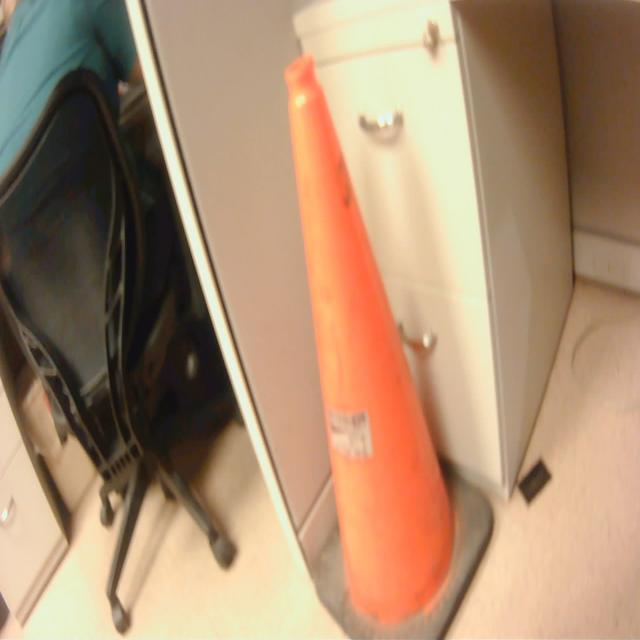traffic cone: (280, 48, 503, 640)
